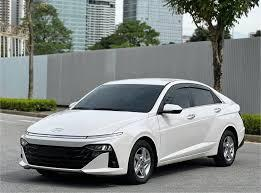hyundai: (49, 124, 65, 135)
